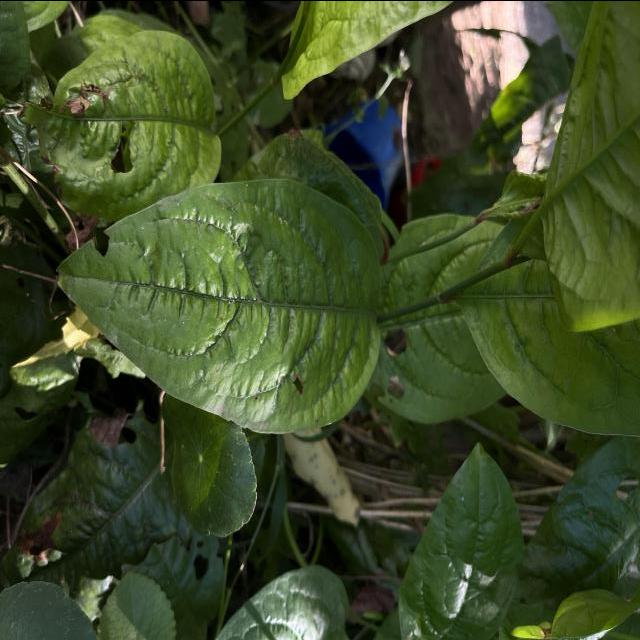Plumbago indica: (49, 172, 394, 438)
